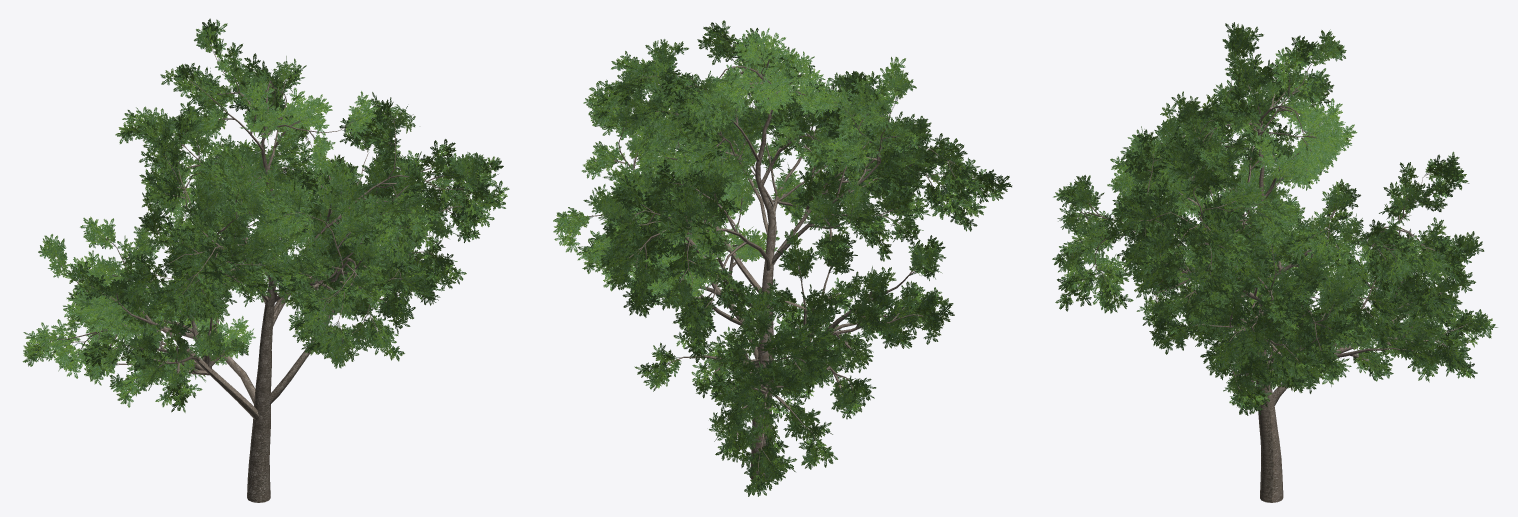
The model's file is park-ash-a.gltf.
3 renders of one model, left to right at view 1: azimuth 30°, elevation 25°; view 2: azimuth 150°, elevation 25°; view 3: azimuth 270°, elevation 25°, orthographic. The views are drawn at different scales.
Parts seen in each view (by area): view 1: park-ash-a; view 2: park-ash-a; view 3: park-ash-a.
Part boxes in pixels (bbox=[...]): park-ash-a: bbox=[22, 18, 509, 502]; park-ash-a: bbox=[553, 20, 1012, 496]; park-ash-a: bbox=[1052, 22, 1497, 502].
Size of the model in its own units: 0.9073 by 1 by 0.8963.
Materials: 2 (2 with a texture image).
